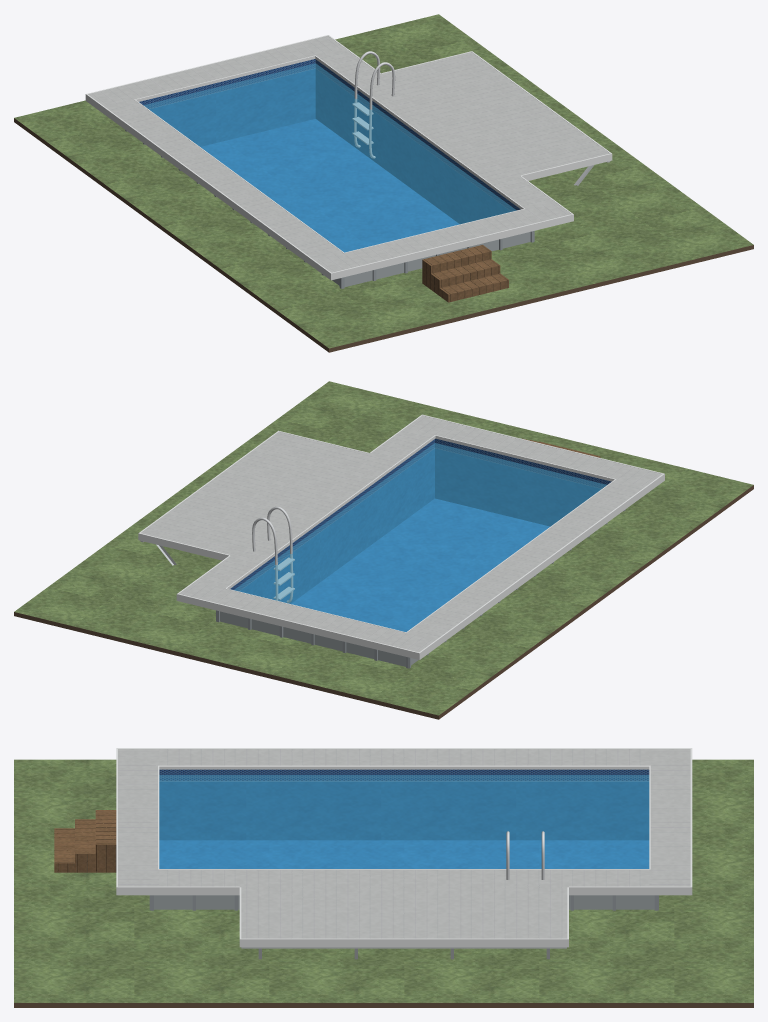
File: kayak-pool-12x24-gray-t-rec-nofence.7fbec71e10.glb
The picture shows the model from 3 angles, top to bottom: view 1: azimuth 30°, elevation 25°; view 2: azimuth 150°, elevation 25°; view 3: azimuth 270°, elevation 25°; orthographic projection. The views are drawn at different scales.
Visible parts, largest first — view 1: ground, water, deck, liner_wall, liner_floor, fascia, soil, steps, wall, steel; view 2: ground, water, deck, liner_wall, liner_floor, fascia, soil, wall, steel; view 3: ground, water, deck, liner_wall, liner_floor, fascia, soil, steps, wall, stud.
Boxes of the visible parts, box(x1,y1,x2,y2) form: ground: box(14, 14, 753, 348); water: box(143, 63, 516, 252); deck: box(88, 36, 609, 272); liner_wall: box(139, 59, 520, 224); liner_floor: box(201, 119, 459, 252); fascia: box(85, 35, 612, 280); soil: box(14, 118, 753, 352); steps: box(422, 245, 508, 302); wall: box(332, 232, 530, 286); steel: box(352, 51, 395, 158); ground: box(14, 381, 753, 715); water: box(234, 443, 606, 631); deck: box(141, 415, 662, 652); liner_wall: box(230, 438, 611, 603); liner_floor: box(291, 498, 549, 631); fascia: box(138, 414, 664, 659); soil: box(14, 485, 753, 719); wall: box(220, 611, 417, 666); steel: box(252, 506, 294, 602); ground: box(14, 759, 753, 1002); water: box(159, 775, 649, 868); deck: box(118, 749, 690, 938); liner_wall: box(159, 769, 649, 840); liner_floor: box(159, 840, 649, 868); fascia: box(116, 748, 692, 947); soil: box(14, 1003, 753, 1007); steps: box(54, 810, 116, 872); wall: box(154, 895, 654, 909); stud: box(241, 947, 566, 959).
Size of the model in its own units: 8.53 by 1.9 by 10.97.
12 materials, 5 textured.
